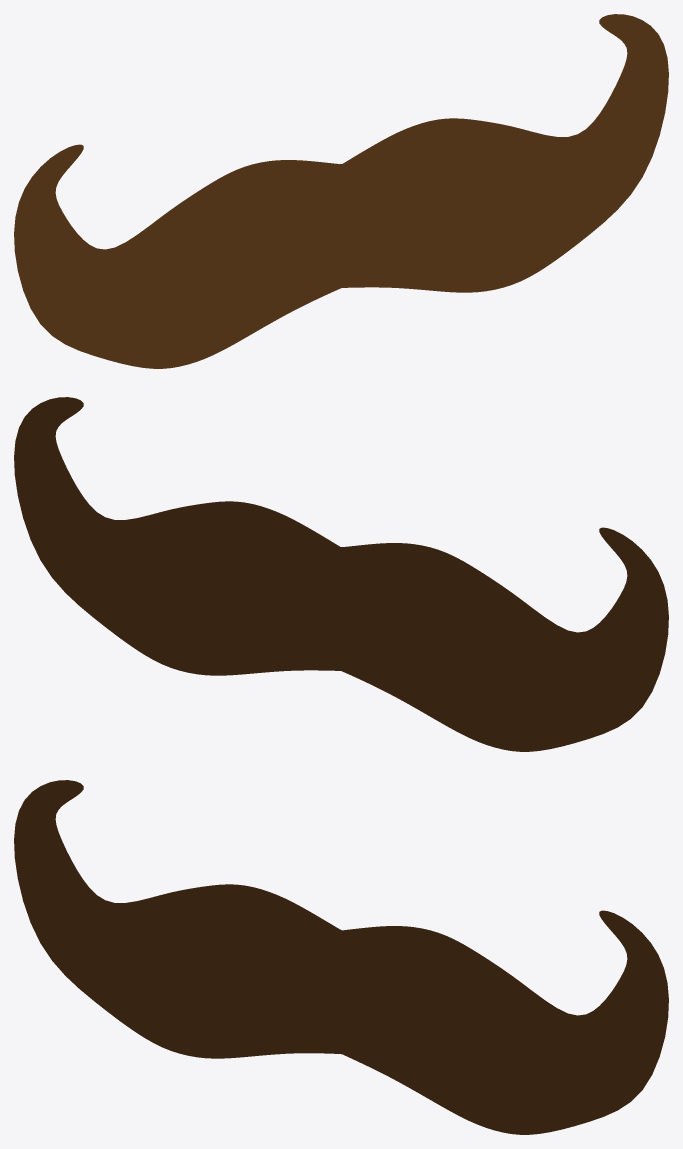
The model's file is moustache.fbx.
3 views of the same model, one above another, from view 1: azimuth 30°, elevation 25°; view 2: azimuth 150°, elevation 25°; view 3: azimuth 330°, elevation 25° (orthographic).
Visible parts, largest first — view 1: Chin_Moustache.001; view 2: Chin_Moustache.001; view 3: Chin_Moustache.001.
Part boxes in pixels (x1,y1,x2,y2): Chin_Moustache.001: (14,14,668,368); Chin_Moustache.001: (14,397,668,751); Chin_Moustache.001: (14,780,668,1134).
Bounding box in the file's own units: 8627 × 3109 × 0.00257.
